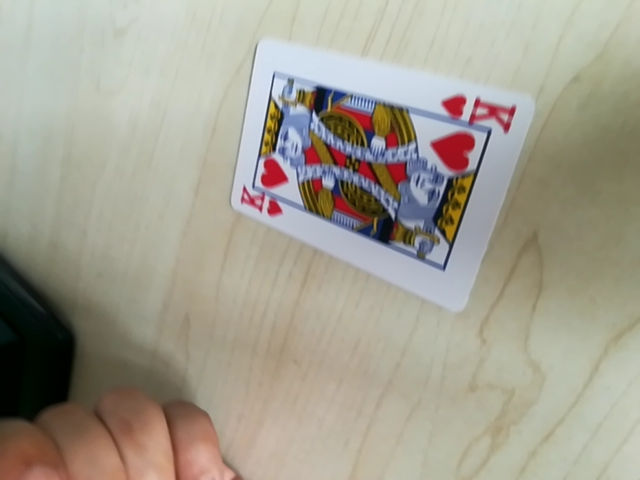hx k: (438, 88, 521, 131), (237, 186, 287, 221)
